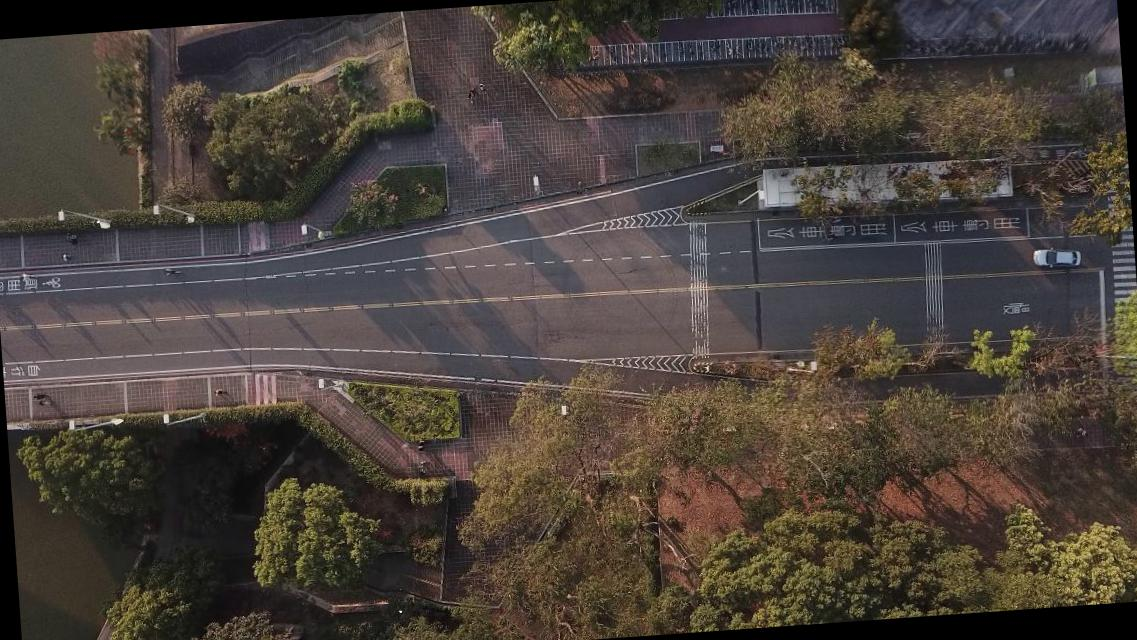vehicle: (1032, 244, 1082, 270)
